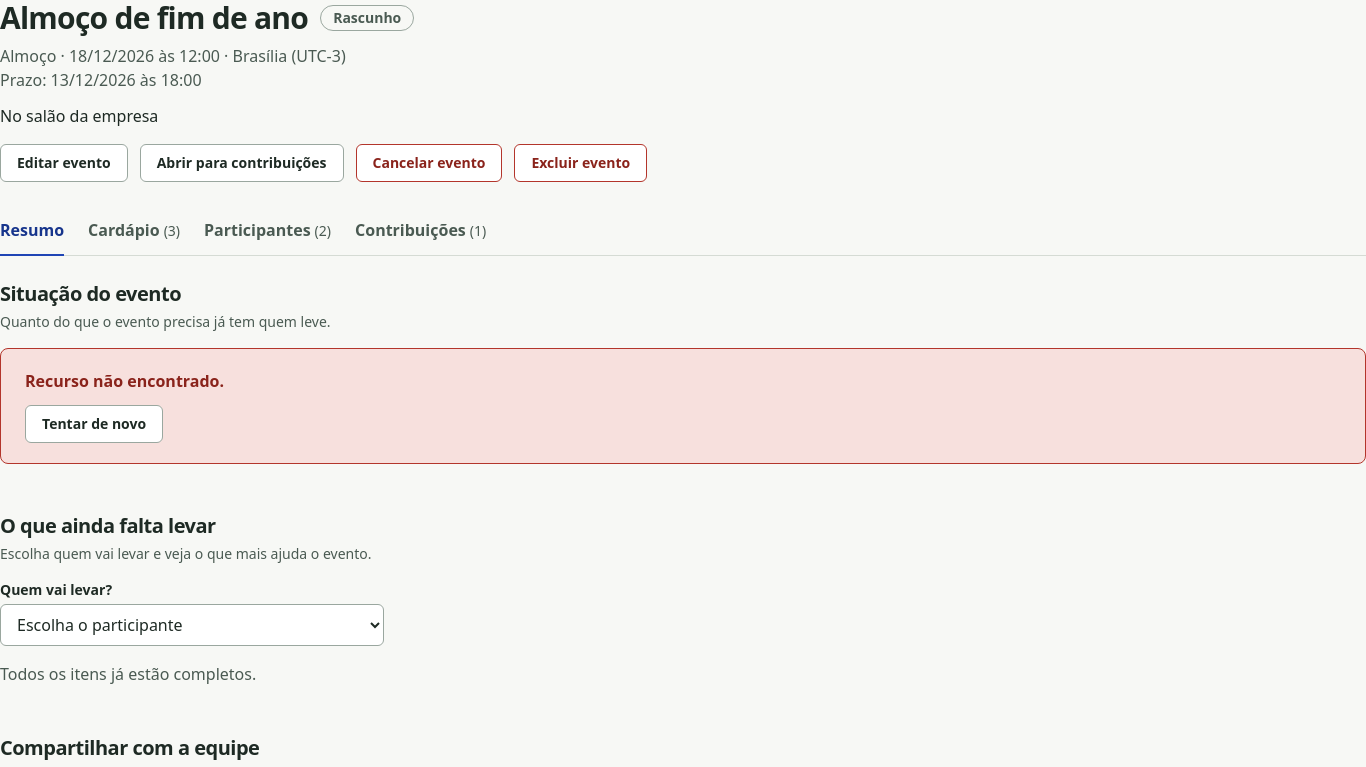
Test: EventPage: edit and delete buttons › asks before it deletes a draft, and goes to the list after
Click the button "Excluir evento" at (581, 163), box top-left (514, 144), bottom-right (647, 182)
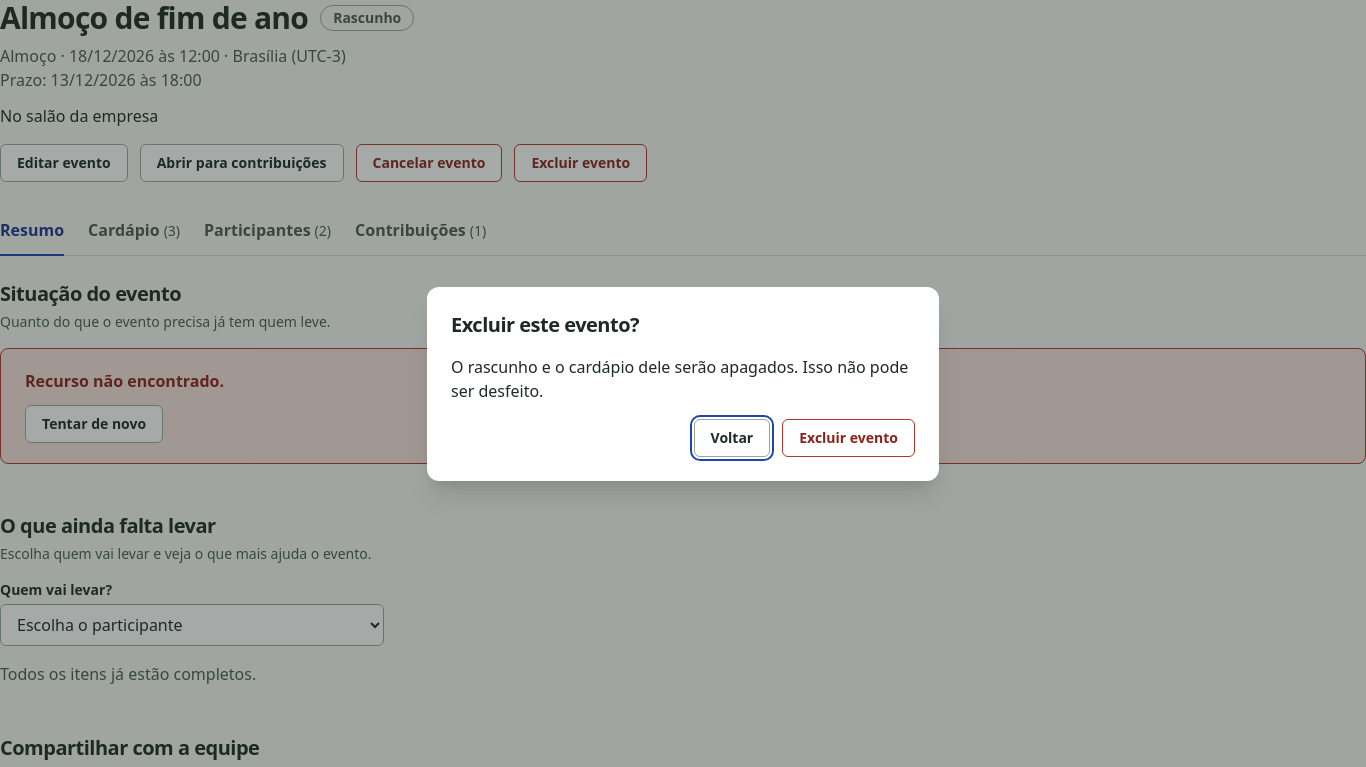
Click the button "Excluir evento" at (849, 438), box top-left (782, 419), bottom-right (915, 457)
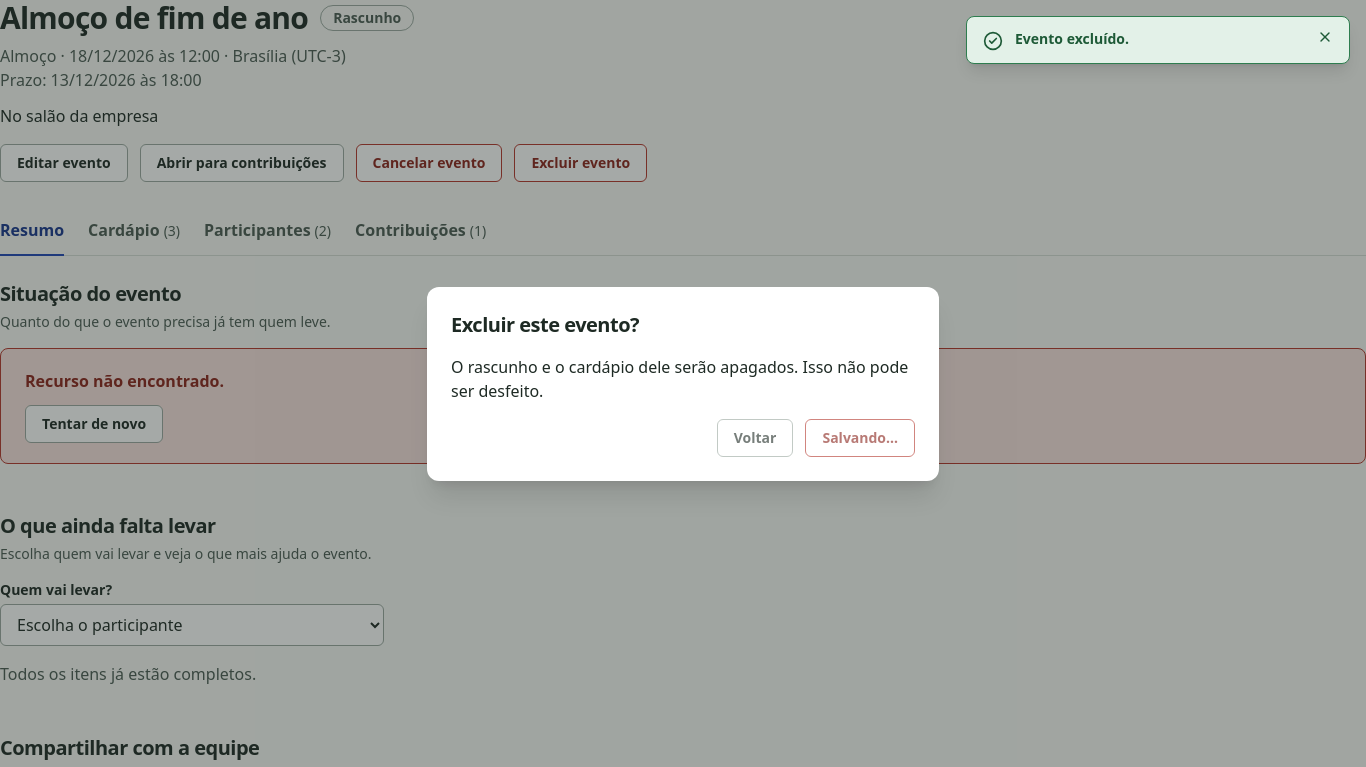
Check: the text "Evento excluído." is shown, box top-left (1015, 29), bottom-right (1129, 48)
